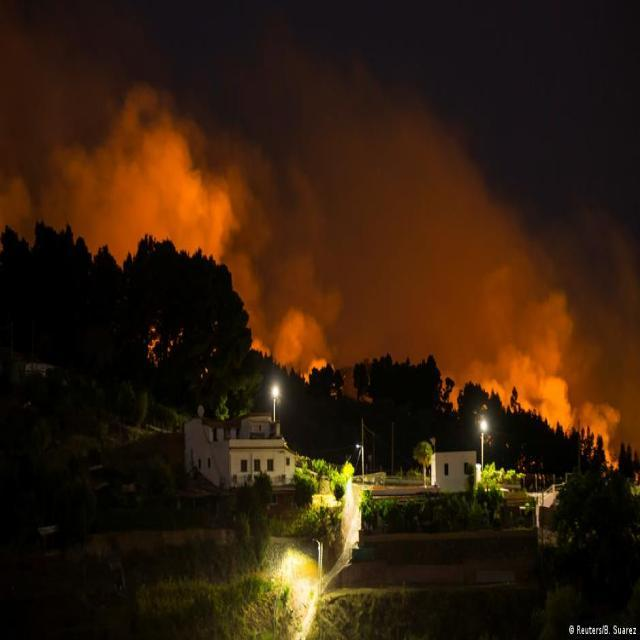Smoke: (0, 81, 243, 287), (442, 262, 628, 471), (231, 146, 349, 398)
